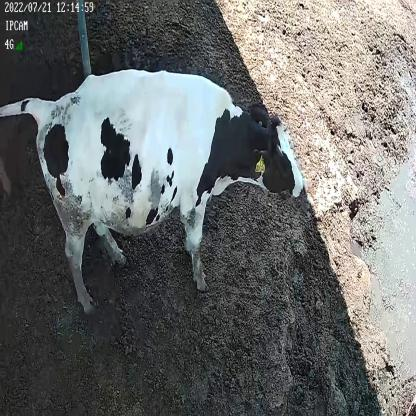cow: (0, 65, 304, 314)
